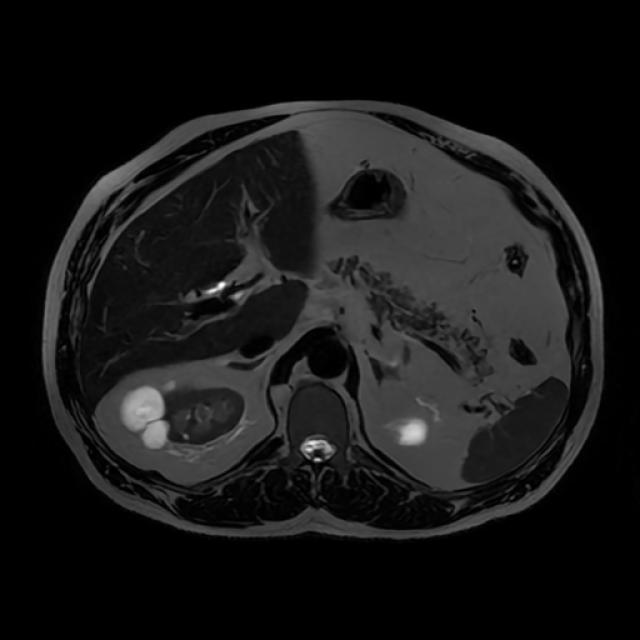sag: (118, 377, 245, 449)
sol: (395, 416, 427, 443)
